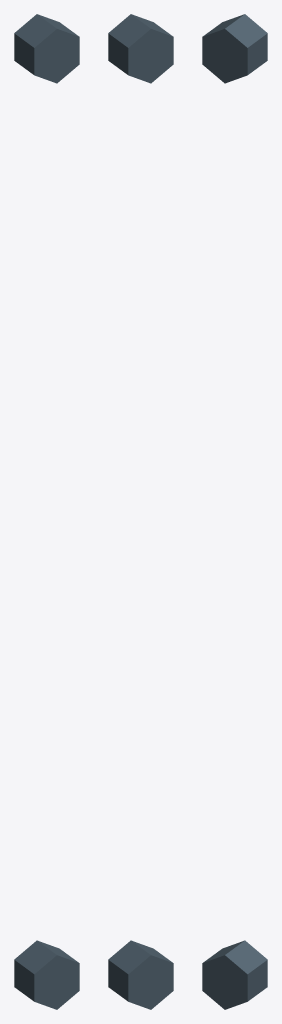
Rendered from P16-05_detail16.obj.
3 views of the same model, side by side, from view 1: azimuth 30°, elevation 25°; view 2: azimuth 210°, elevation 25°; view 3: azimuth 330°, elevation 25° (orthographic).
Visible parts, largest first — view 1: P16-05_STATIC_Steel_DETAIL16_LowerLip_CaptiveBolt, P16-05_STATIC_Steel_DETAIL16_UpperLip_CaptiveBolt; view 2: P16-05_STATIC_Steel_DETAIL16_LowerLip_CaptiveBolt, P16-05_STATIC_Steel_DETAIL16_UpperLip_CaptiveBolt; view 3: P16-05_STATIC_Steel_DETAIL16_LowerLip_CaptiveBolt, P16-05_STATIC_Steel_DETAIL16_UpperLip_CaptiveBolt.
Boxes of the visible parts, x1=… form: P16-05_STATIC_Steel_DETAIL16_LowerLip_CaptiveBolt: x1=14, y1=940, x2=79, y2=1009; P16-05_STATIC_Steel_DETAIL16_UpperLip_CaptiveBolt: x1=14, y1=14, x2=79, y2=83; P16-05_STATIC_Steel_DETAIL16_LowerLip_CaptiveBolt: x1=108, y1=940, x2=173, y2=1009; P16-05_STATIC_Steel_DETAIL16_UpperLip_CaptiveBolt: x1=108, y1=14, x2=173, y2=83; P16-05_STATIC_Steel_DETAIL16_LowerLip_CaptiveBolt: x1=202, y1=940, x2=267, y2=1009; P16-05_STATIC_Steel_DETAIL16_UpperLip_CaptiveBolt: x1=202, y1=14, x2=267, y2=83.
Bounding box in the file's own units: 0.00779 × 0.161 × 0.006.
